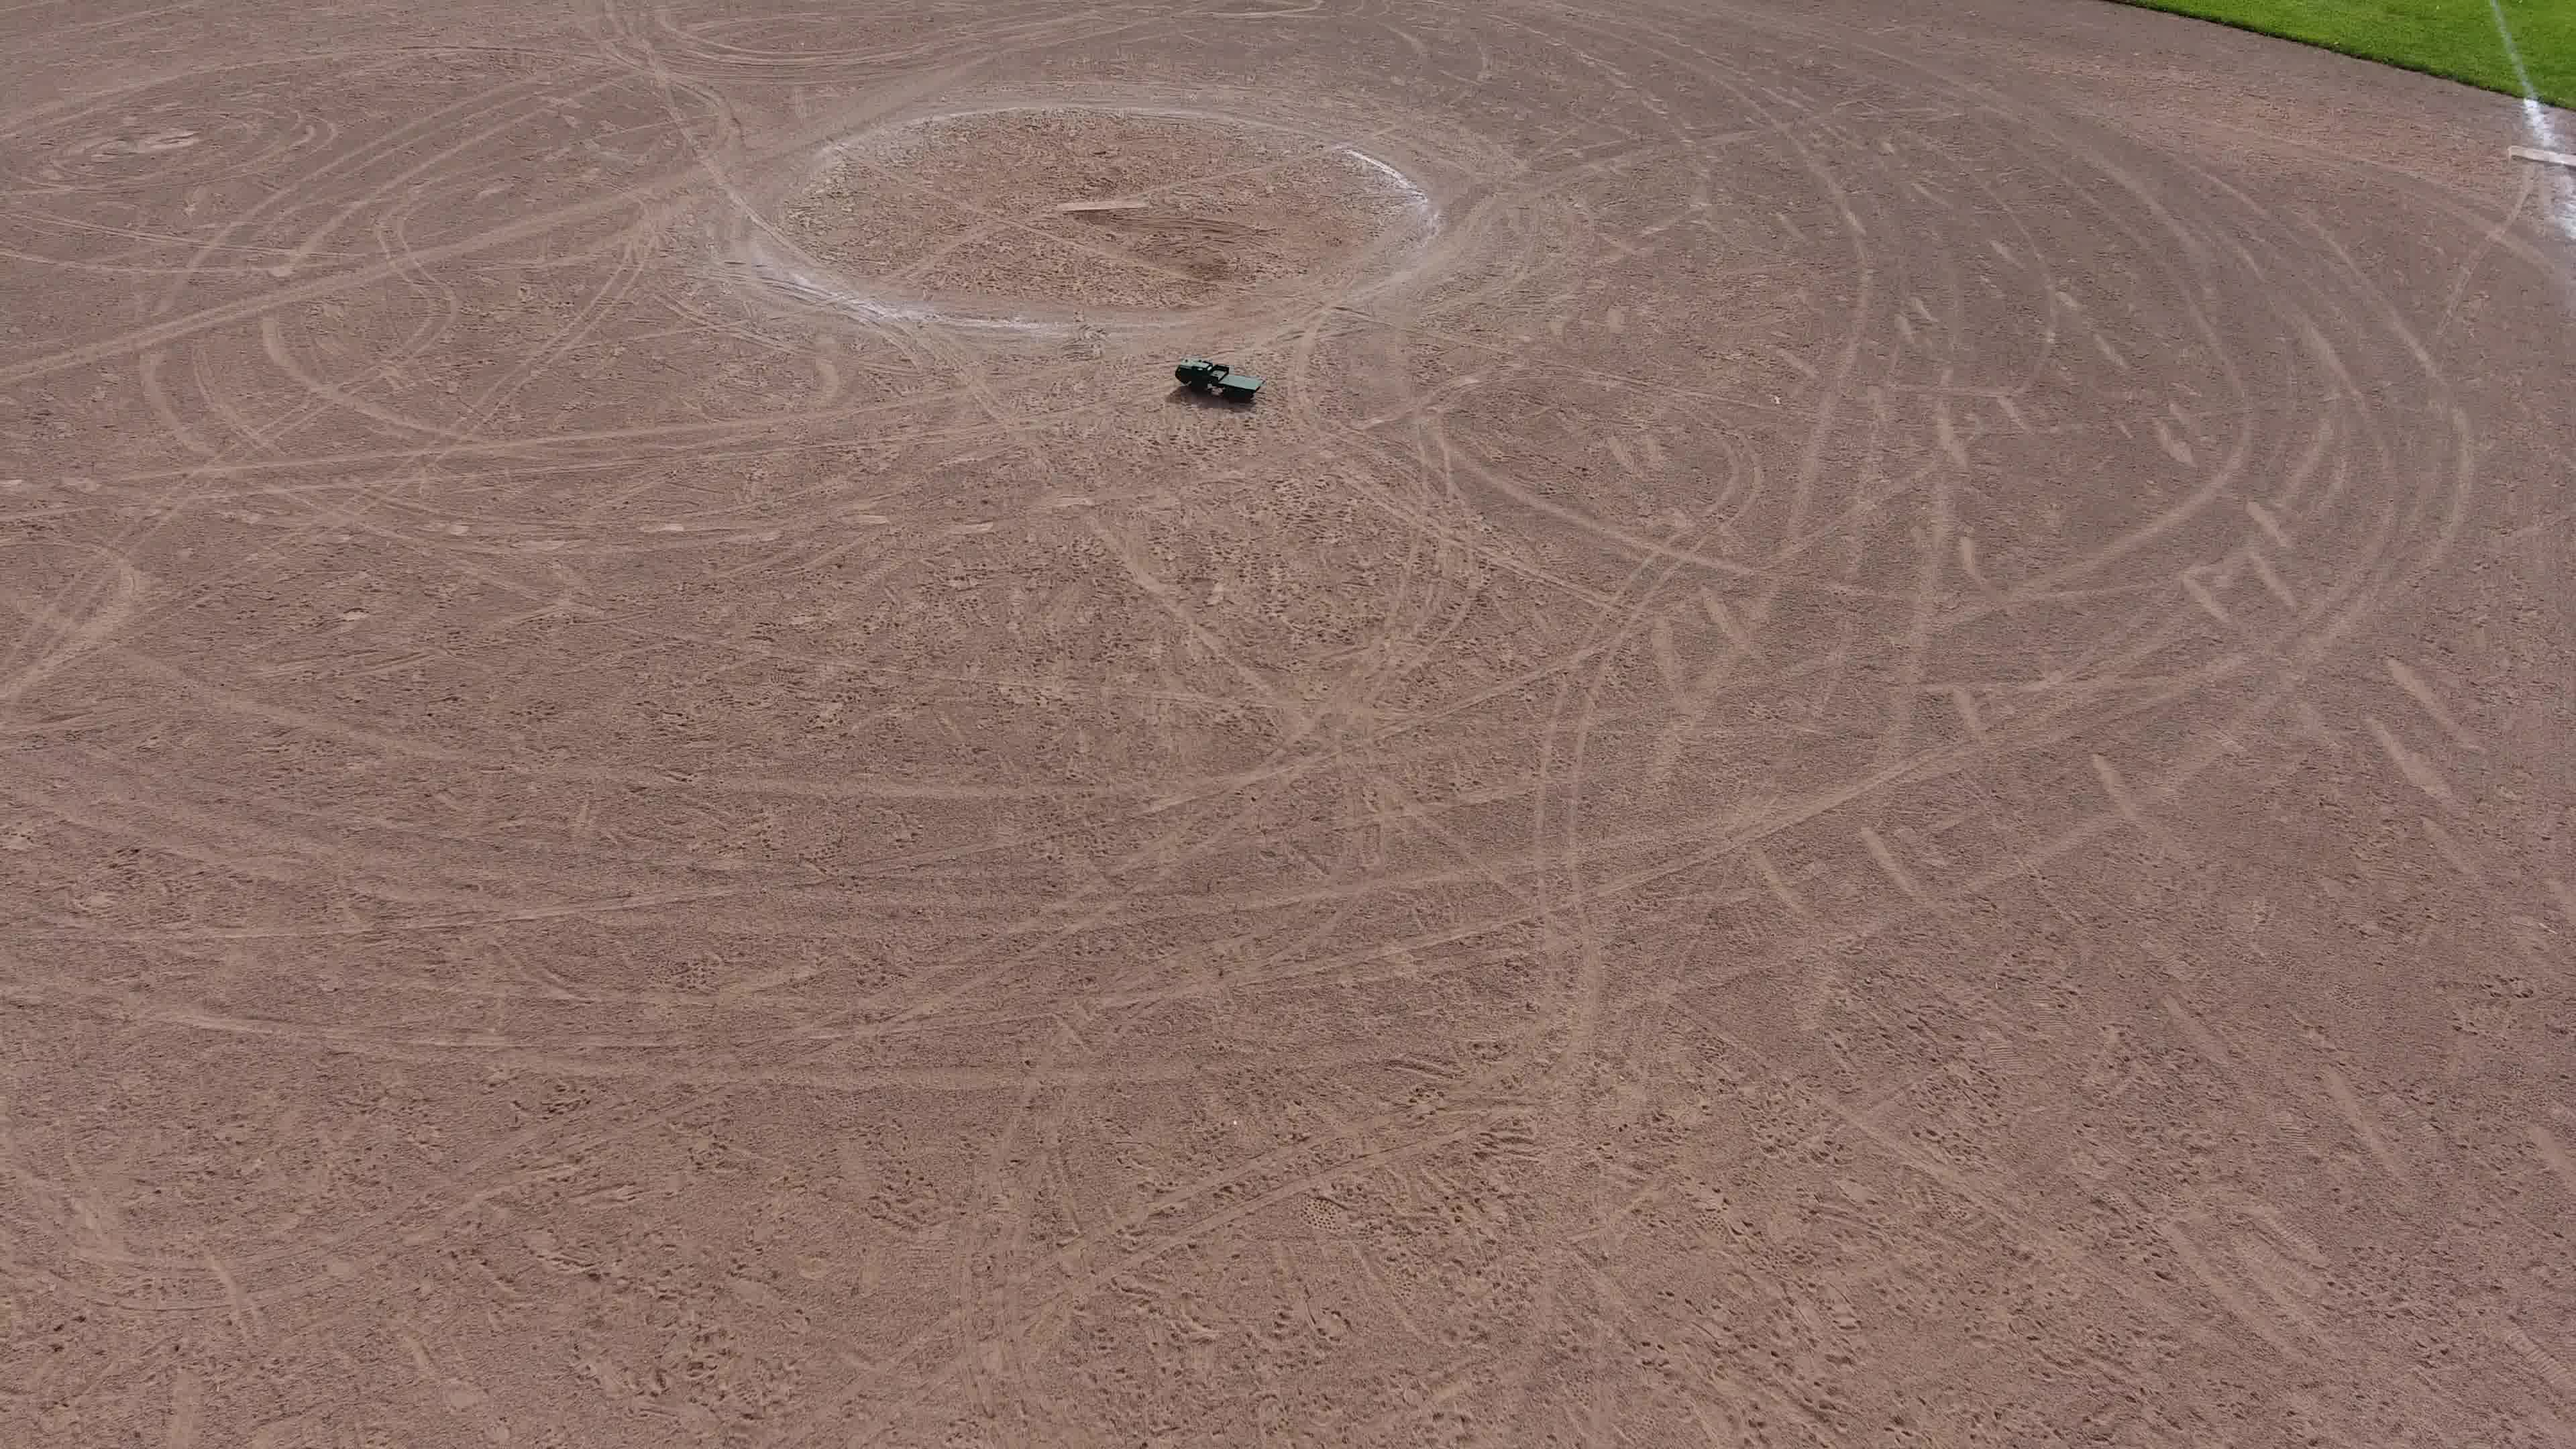transporter9: (1173, 356, 1267, 409)
